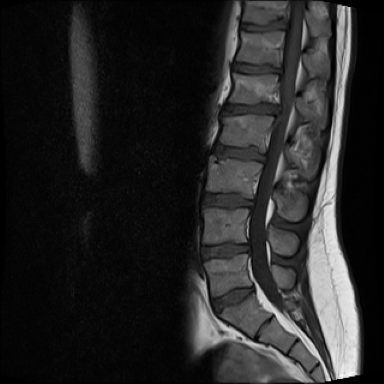Lumbar Disc Bulge (LDB): (203, 278, 260, 322), (217, 94, 293, 122)
Normal IVD: (196, 237, 253, 264), (208, 141, 270, 165), (195, 192, 259, 212)
Spinal Stenosis (SS): (265, 99, 292, 121), (269, 58, 288, 82), (244, 278, 262, 301), (275, 19, 293, 35)
Thoracic Disc Bulge (TDB): (235, 15, 296, 35), (226, 60, 286, 79)
